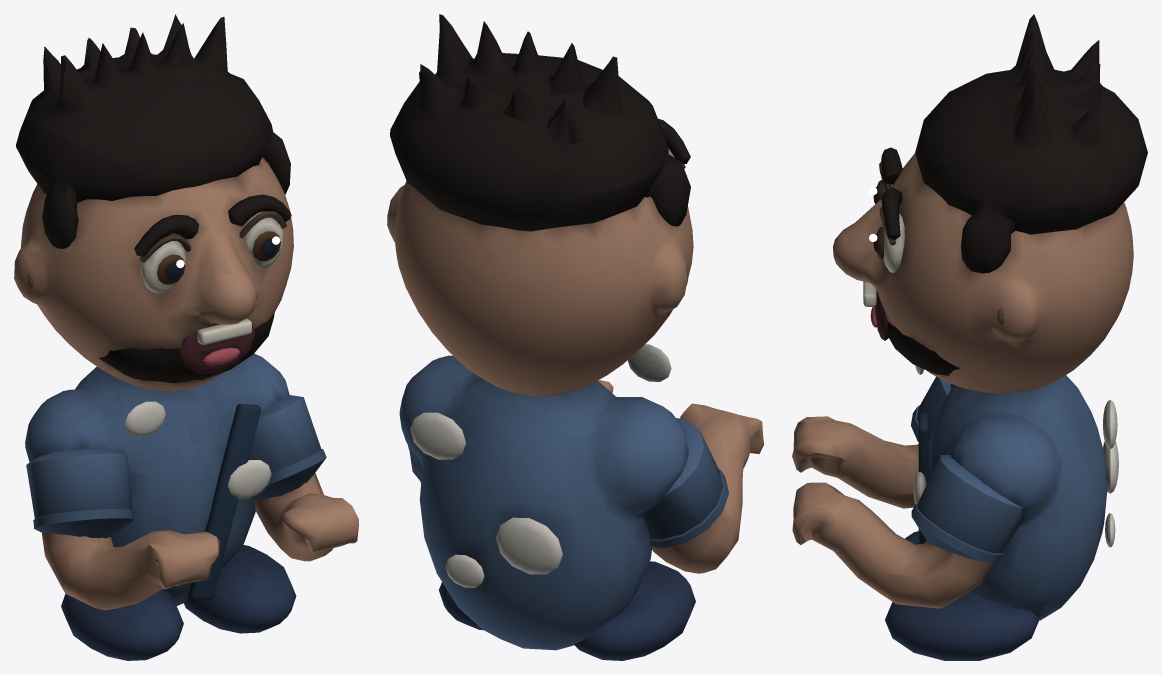
Rendered from raulin.glb.
3 renders of one model, left to right at view 1: azimuth 30°, elevation 25°; view 2: azimuth 150°, elevation 25°; view 3: azimuth 270°, elevation 25°, orthographic. The views are drawn at different scales.
Parts seen in each view (by area): view 1: raulin-head-root-soft-1f1a18, raulin-head-root-soft-c39479, raulin-root-soft-58759d, raulin-root-344465-r85, raulin-arm-right-soft-c39479, raulin-arm-right-58759d-r85, raulin-arm-left-soft-c39479, raulin-root-263b54-r70, raulin-arm-left-58759d-r85, raulin-head-root-1f1a18-r85, raulin-head-root-1f1a18-r70, raulin-root-fbf6ea-r70 (+7 smaller); view 2: raulin-root-soft-58759d, raulin-head-root-soft-1f1a18, raulin-head-root-soft-c39479, raulin-root-fbf6ea-r70, raulin-arm-right-soft-c39479, raulin-root-344465-r85, raulin-arm-right-58759d-r85, raulin-arm-right-465e7e-r85, raulin-head-root-1f1a18-r70; view 3: raulin-head-root-soft-c39479, raulin-head-root-soft-1f1a18, raulin-root-soft-58759d, raulin-arm-left-soft-c39479, raulin-root-344465-r85, raulin-arm-right-soft-c39479, raulin-arm-left-58759d-r85, raulin-root-fbf6ea-r70, raulin-arm-left-465e7e-r85, raulin-head-root-1f1a18-r70, raulin-head-root-1f1a18-r85, raulin-arm-right-58759d-r85 (+2 smaller).
Part boxes in pixels (x1,y1,x2,y2): raulin-head-root-soft-1f1a18: (16,14,290,248); raulin-head-root-soft-c39479: (14,157,293,391); raulin-root-soft-58759d: (25,353,289,605); raulin-root-344465-r85: (61,544,296,660); raulin-arm-right-soft-c39479: (42,530,219,610); raulin-arm-right-58759d-r85: (26,448,131,518); raulin-arm-left-soft-c39479: (255,473,358,561); raulin-root-263b54-r70: (188,404,261,599); raulin-arm-left-58759d-r85: (248,395,321,472); raulin-head-root-1f1a18-r85: (99,313,274,382); raulin-head-root-1f1a18-r70: (134,194,291,256); raulin-root-fbf6ea-r70: (125,401,271,498); raulin-root-soft-58759d: (399,355,688,650); raulin-head-root-soft-1f1a18: (390,14,690,231); raulin-head-root-soft-c39479: (387,181,693,396); raulin-root-fbf6ea-r70: (410,344,671,587); raulin-arm-right-soft-c39479: (652,403,763,573); raulin-root-344465-r85: (439,561,695,660); raulin-arm-right-58759d-r85: (643,418,723,539); raulin-arm-right-465e7e-r85: (649,468,728,547); raulin-head-root-1f1a18-r70: (658,118,690,163); raulin-head-root-soft-c39479: (833,153,1133,393); raulin-head-root-soft-1f1a18: (915,14,1147,273); raulin-root-soft-58759d: (929,375,1107,620); raulin-arm-left-soft-c39479: (792,482,993,608); raulin-root-344465-r85: (885,531,1039,660); raulin-arm-right-soft-c39479: (792,416,918,508); raulin-arm-left-58759d-r85: (917,454,1024,553); raulin-root-fbf6ea-r70: (913,365,1118,547); raulin-arm-left-465e7e-r85: (911,503,1002,562); raulin-head-root-1f1a18-r70: (881,147,902,240); raulin-head-root-1f1a18-r85: (887,322,959,375); raulin-arm-right-58759d-r85: (917,376,950,440).
Bounding box in the file's own units: 1.1 × 2.16 × 1.21.
